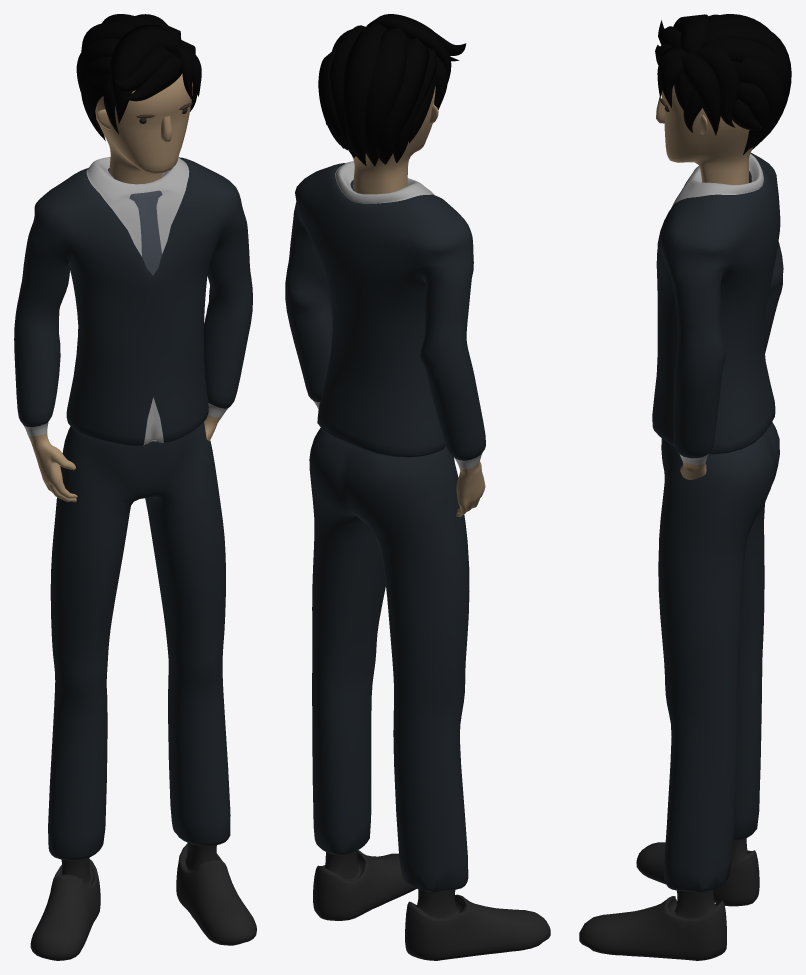
The model's file is character.glb.
The picture shows the model from 3 angles, left to right: view 1: azimuth 30°, elevation 25°; view 2: azimuth 150°, elevation 25°; view 3: azimuth 270°, elevation 25°; orthographic projection. The views are drawn at different scales.
Visible parts, largest first — view 1: character; view 2: character; view 3: character.
Part boxes in pixels (box(x1,y1,x2,y2)): character: box(14, 14, 256, 960); character: box(285, 14, 550, 960); character: box(579, 14, 791, 960).
Bounding box in the file's own units: 0.5102 × 1.86 × 0.3941.
